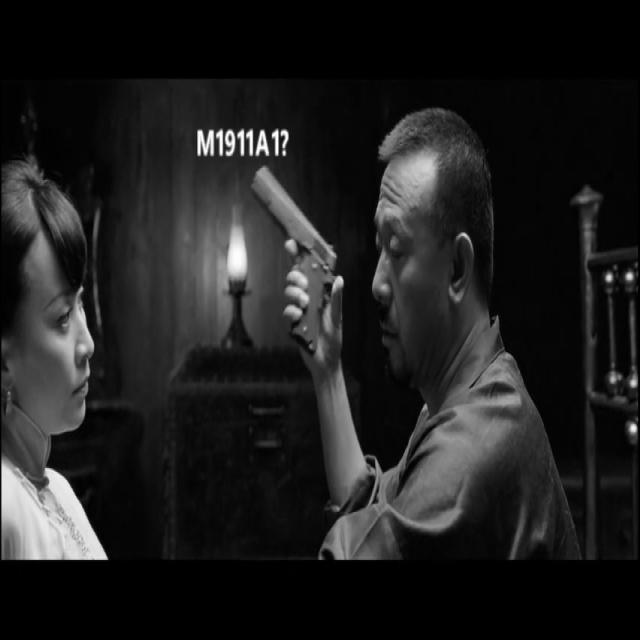Hand-Gun: (219, 124, 401, 397)
